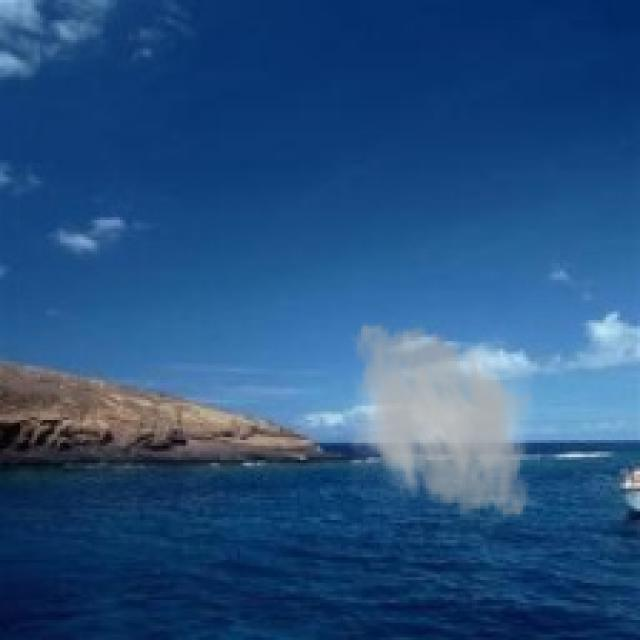smoke: (340, 314, 549, 526)
